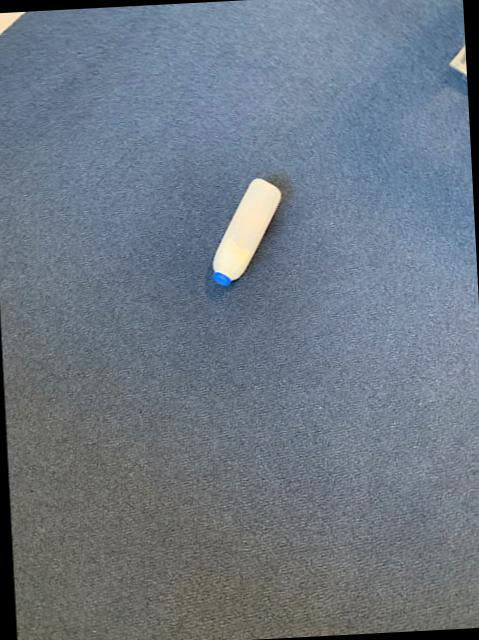plastic: (211, 177, 278, 283)
